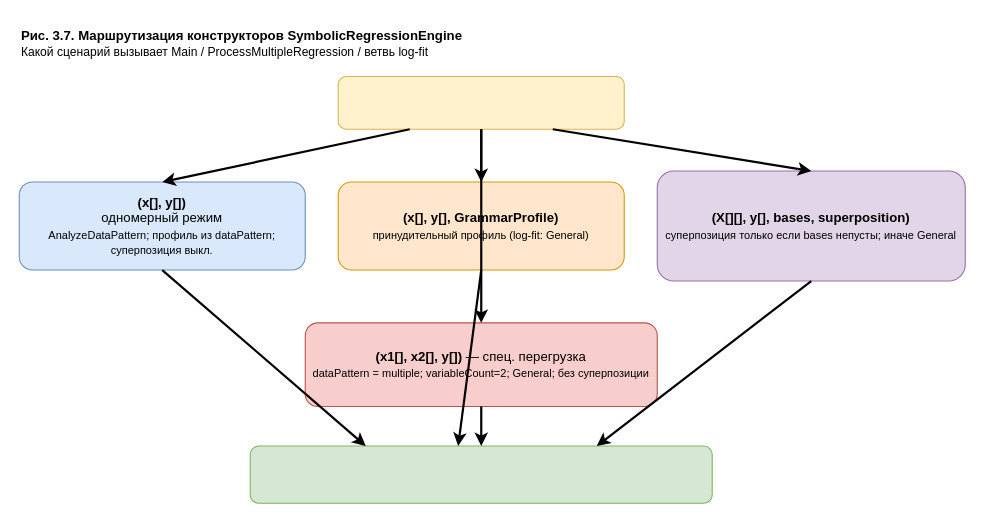
This 985x523 diagram has some shape labels left out. Here are the shapes that lost their labels. From the top down, the centre of each, then its label:
the point at 480,102: Вызов SymbolicRegressionEngine …
the point at 480,474: Далее: Evolve() , вычисление деревьев Evaluate (рис. 3.8)…
